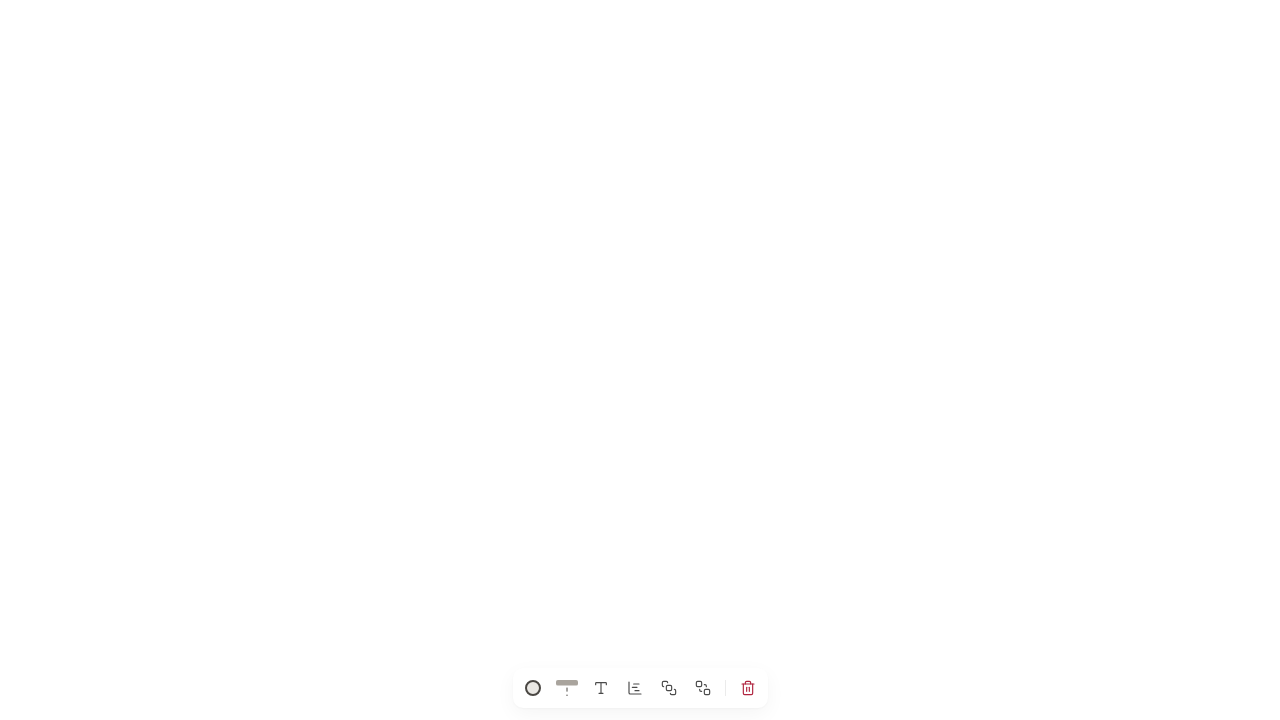
edit bar — Activations › disables Add when there's no room
This screenshot has width=1280, height=720.
Click the 4th button named "Activations": (634, 688) [618,672,650,704]
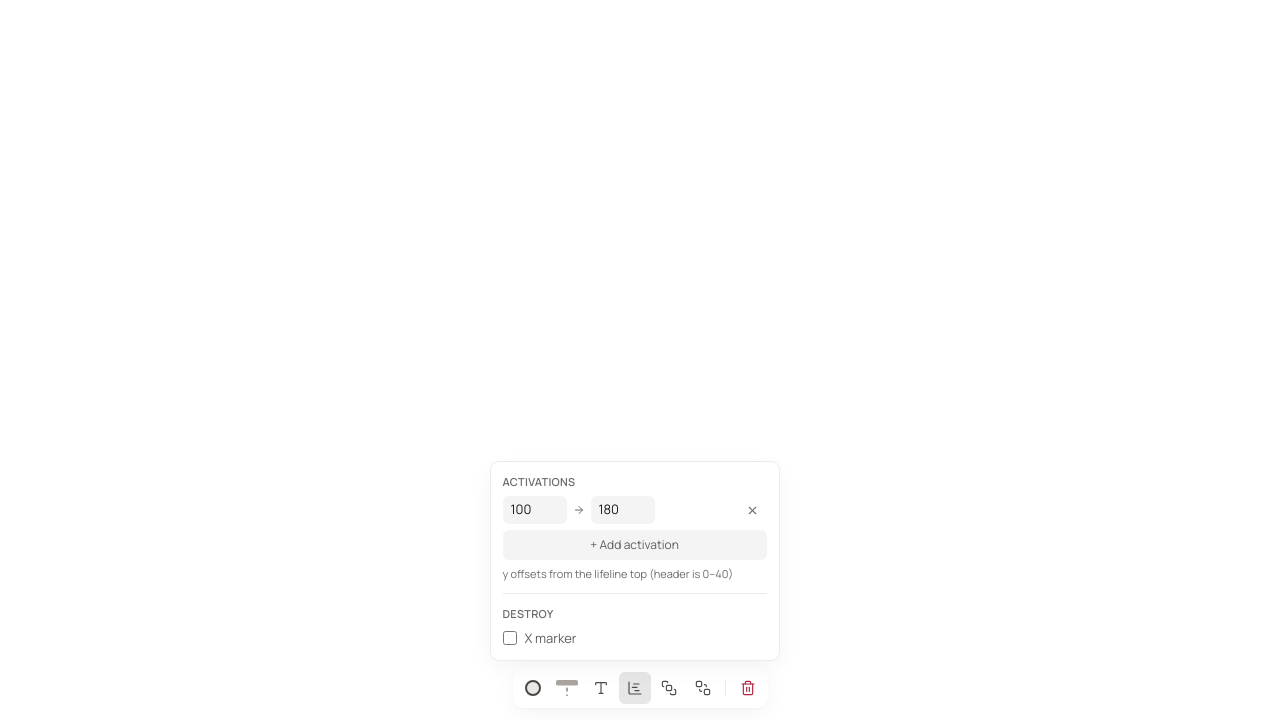
Check: the button "+ Add activation" is enabled
Click the button "+ Add activation": (634, 545) [502,530,766,560]
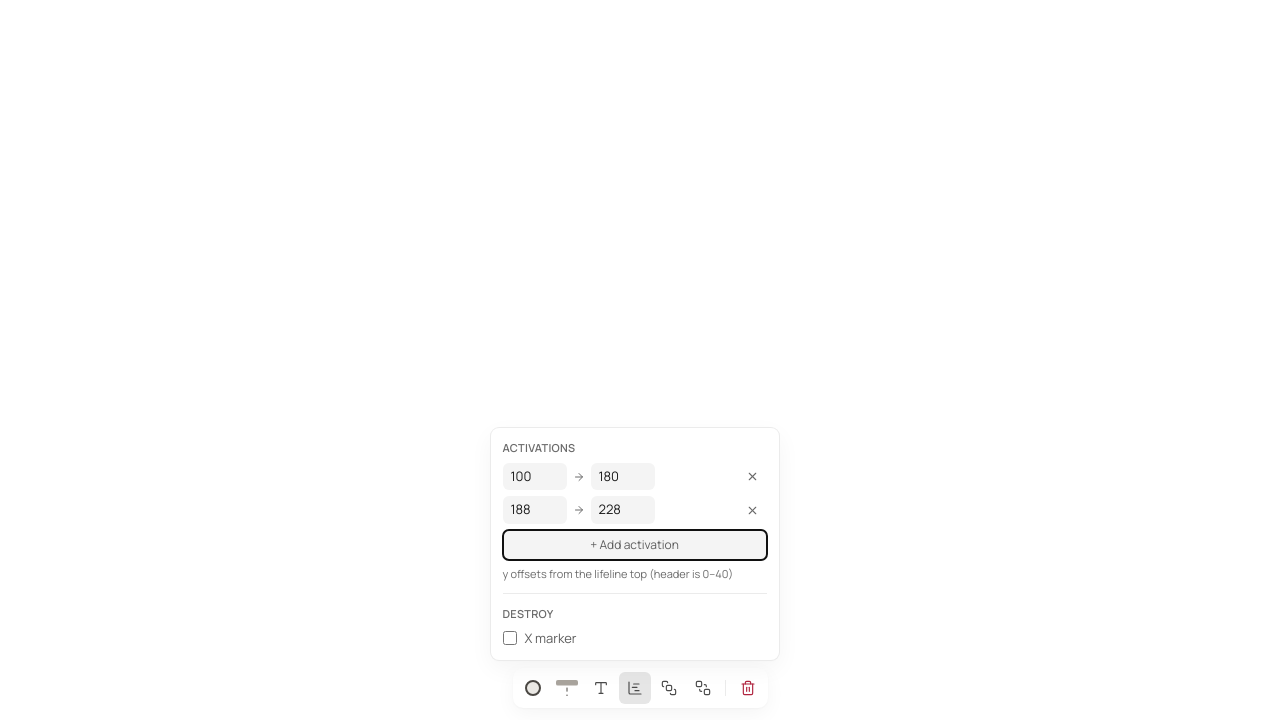
Click the button "+ Add activation": (634, 545) [502,530,766,560]
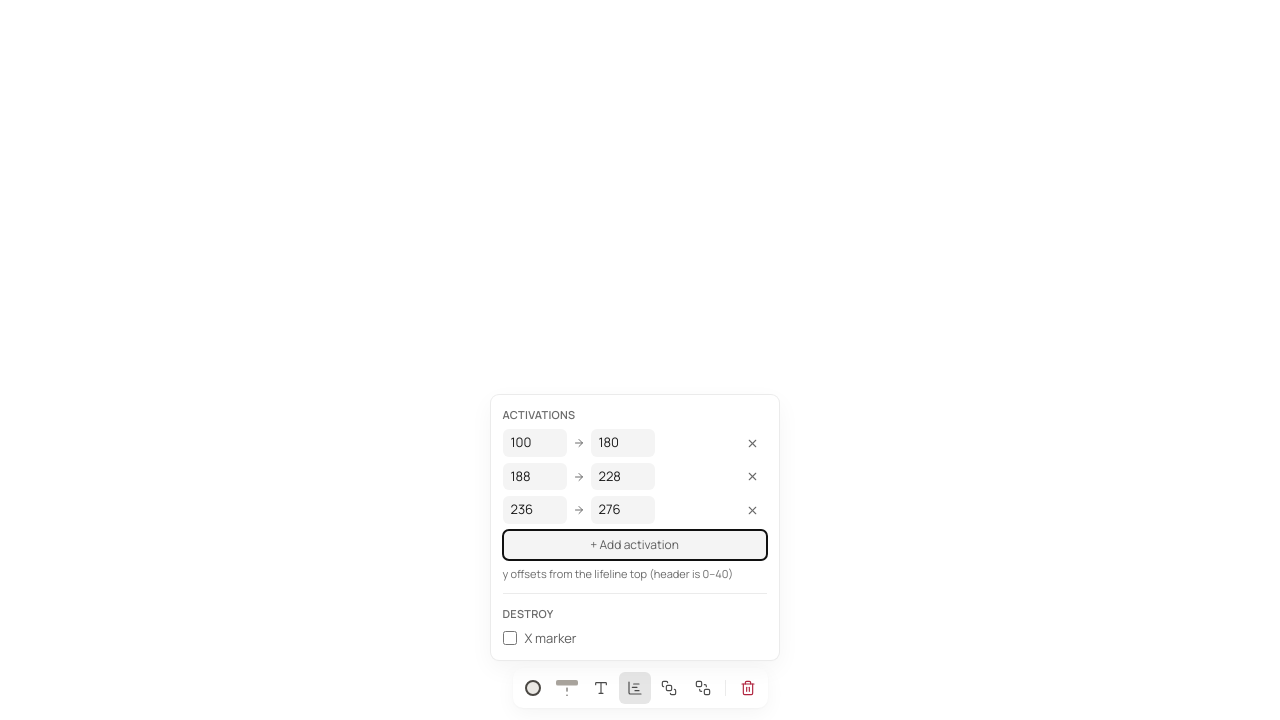
Click the button "+ Add activation": (634, 545) [502,530,766,560]
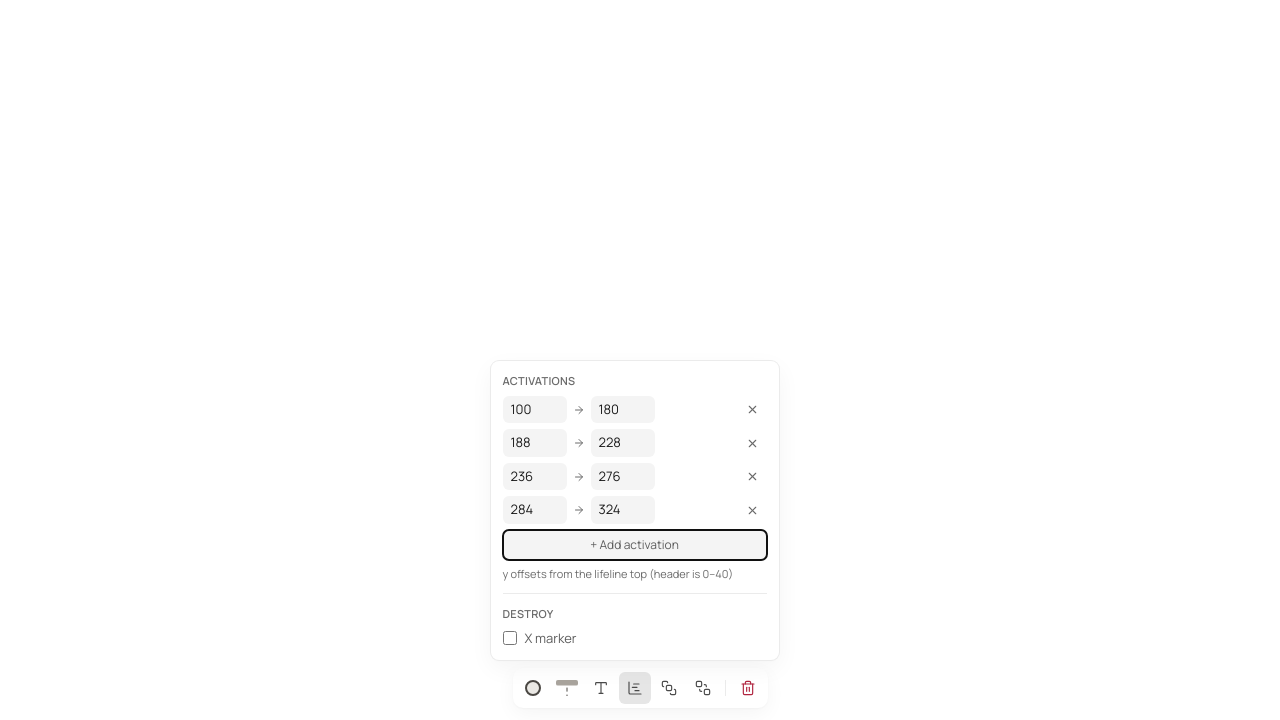
Click the button "+ Add activation": (634, 545) [502,530,766,560]
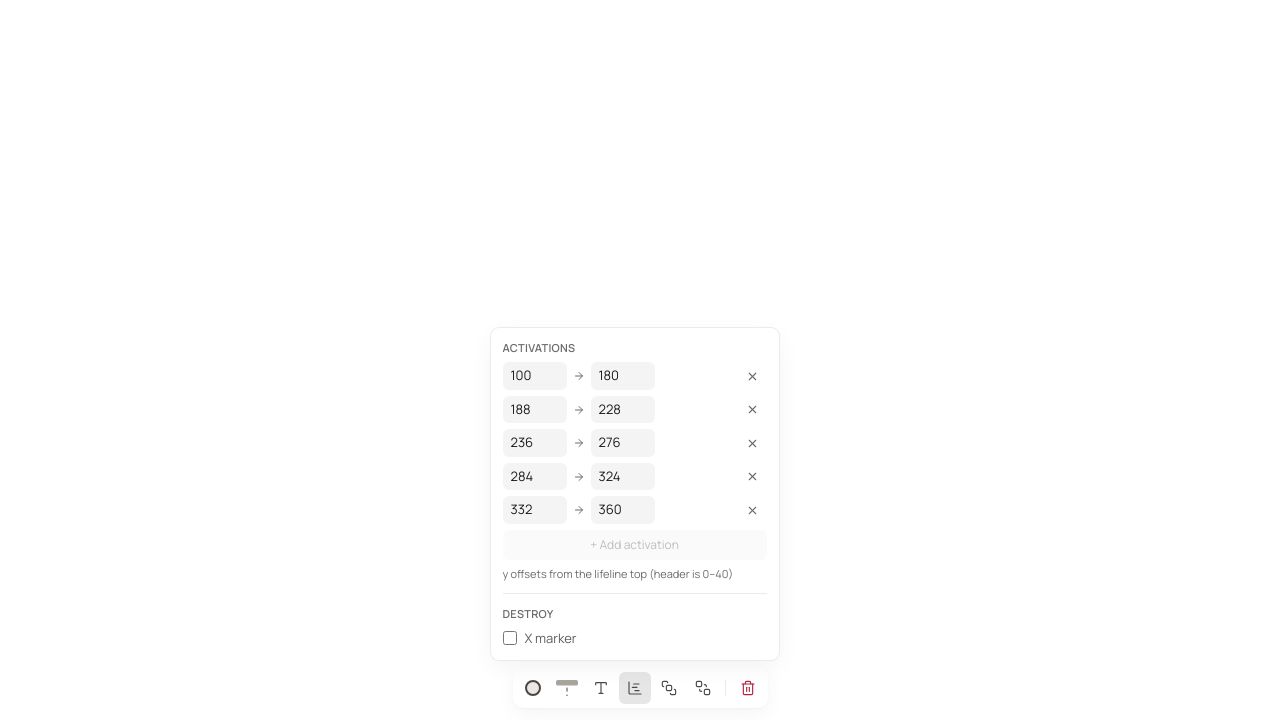
Check: the button "+ Add activation" is disabled, box [502,530,766,560]
